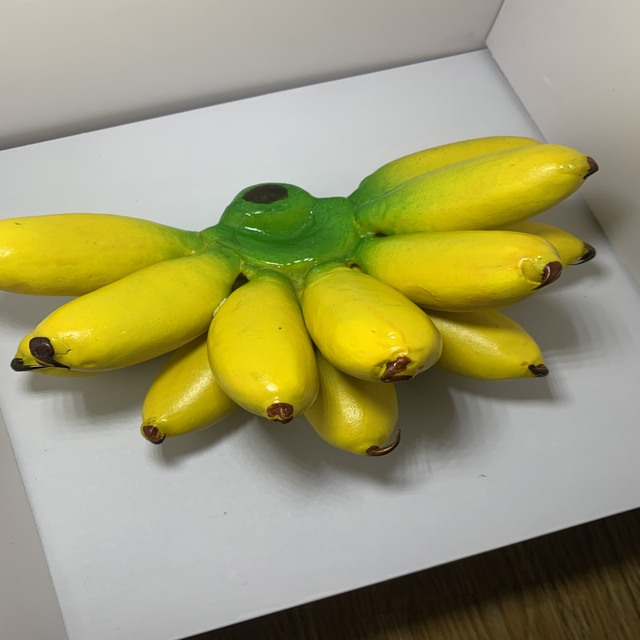Chuoi: (0, 135, 603, 461)
